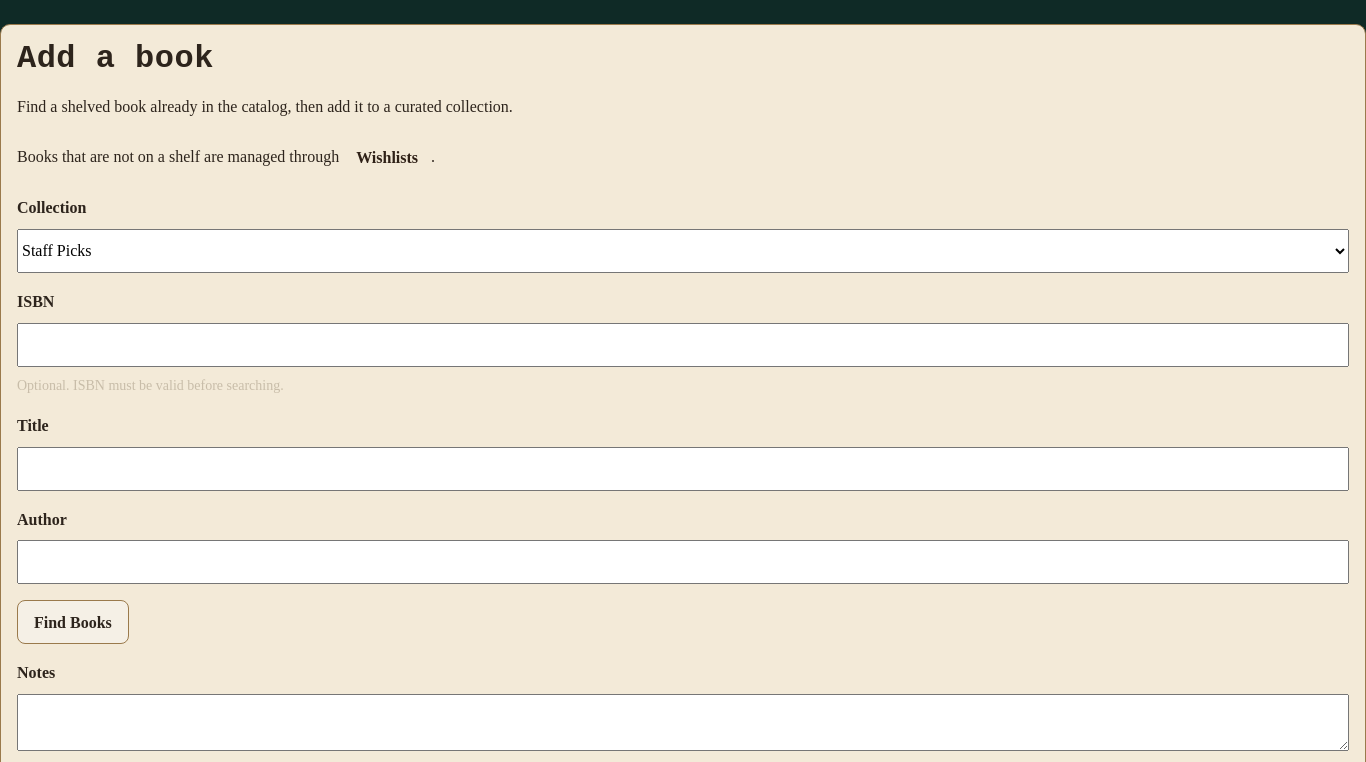
it: AddCollectionBookControl › requires search input before searching
What coordinates should you click on to do the following:
click the button "Find Books"
I would click on:
 (73, 622)
Its box is [17, 600, 129, 644].
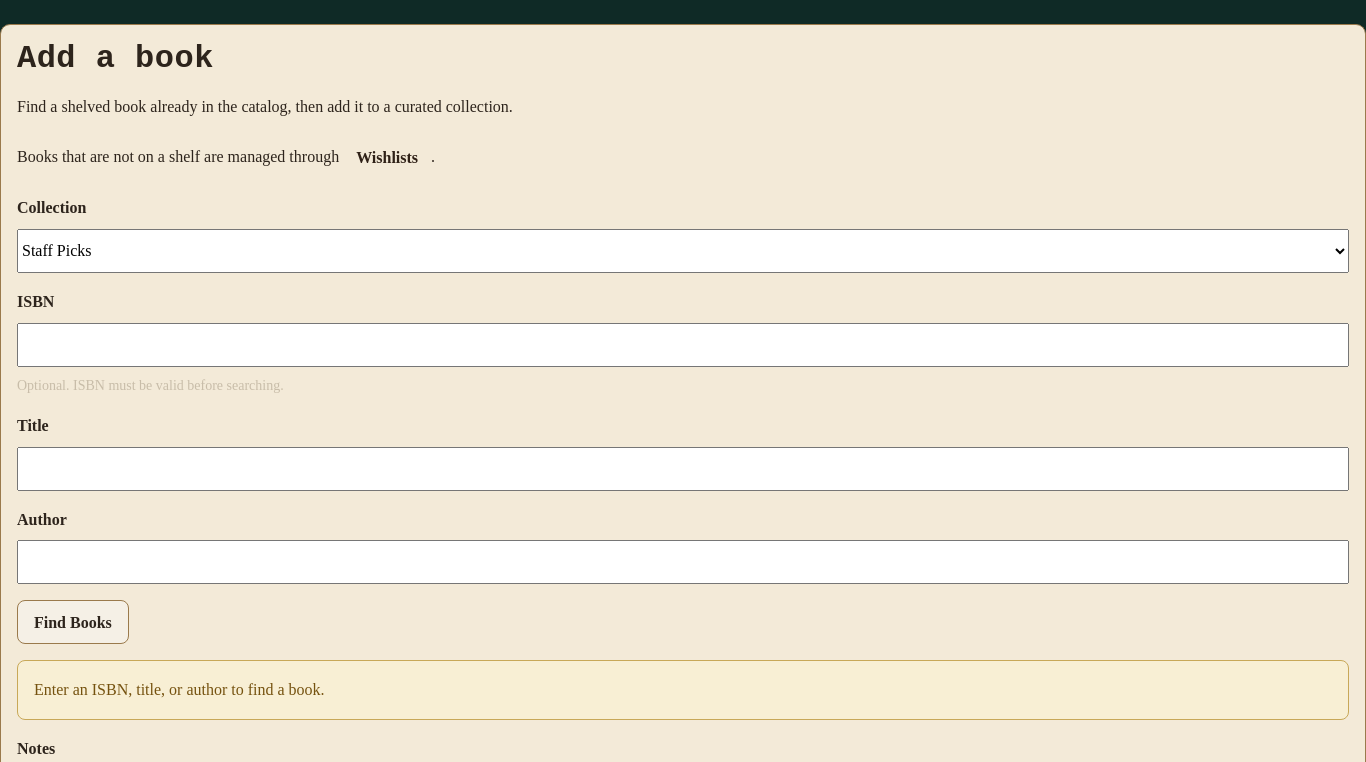
expect the message shows "Enter an ISBN, title, or author": met, box [34, 681, 325, 698]
